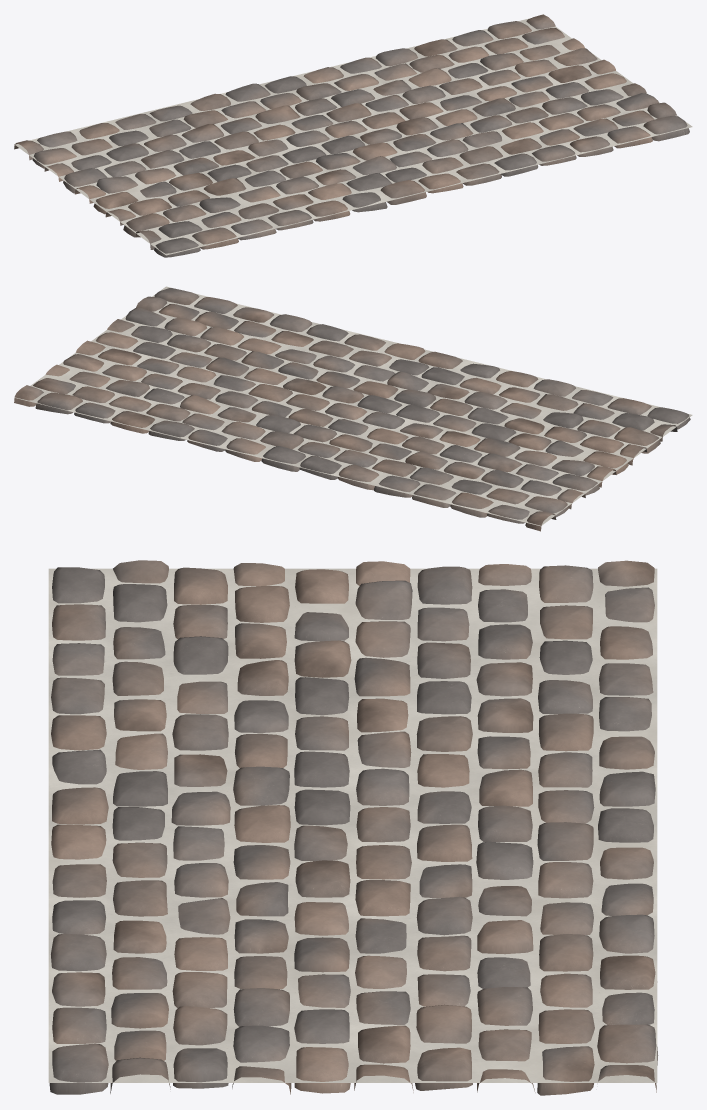
The model's file is cobble_plaza_2.glb.
The picture shows the model from 3 angles, top to bottom: view 1: azimuth 30°, elevation 25°; view 2: azimuth 150°, elevation 25°; view 3: azimuth 270°, elevation 25°; orthographic projection. The views are drawn at different scales.
Visible parts, largest first — view 1: model; view 2: model; view 3: model.
Part boxes in pixels (x1,y1,x2,y2): model: (14, 14, 692, 257); model: (14, 286, 692, 531); model: (48, 560, 658, 1095).
Size of the model in its own units: 4.01 by 0.1096 by 2.
2 materials, 2 textured.
